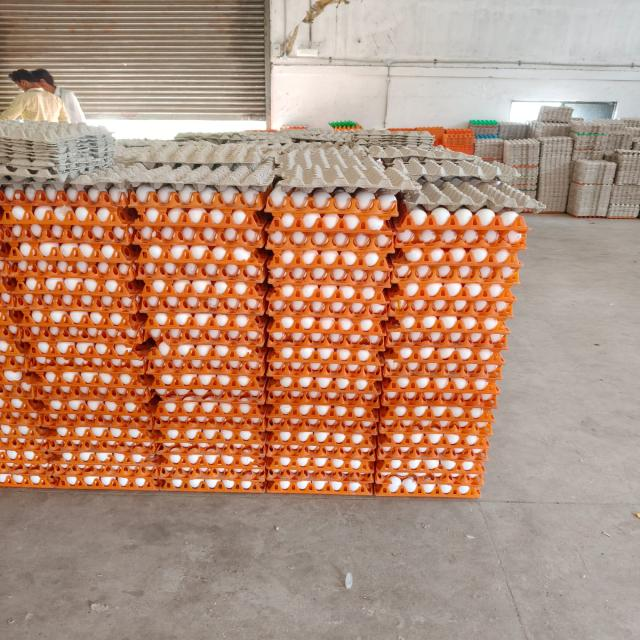egg_tray: (376, 208, 526, 497), (267, 189, 396, 493), (131, 187, 266, 453), (3, 188, 139, 366), (376, 315, 506, 496), (147, 313, 266, 492), (148, 315, 266, 491), (3, 310, 147, 451), (150, 324, 266, 492), (2, 186, 140, 313), (385, 245, 519, 375), (132, 186, 266, 314), (148, 313, 266, 456), (267, 188, 396, 318), (25, 312, 151, 442), (268, 348, 381, 492), (376, 368, 497, 496), (267, 359, 379, 493), (389, 208, 527, 316), (55, 420, 264, 491), (268, 316, 383, 444), (381, 316, 503, 435), (30, 314, 153, 424), (130, 185, 266, 283), (267, 376, 379, 492), (268, 378, 377, 494), (379, 346, 503, 444), (31, 340, 154, 437), (0, 186, 132, 276), (386, 282, 514, 372), (154, 393, 265, 491), (147, 314, 266, 404), (148, 343, 266, 431), (138, 245, 267, 324), (391, 208, 525, 284), (379, 374, 497, 460), (267, 346, 381, 434), (3, 242, 141, 314), (45, 402, 157, 490), (268, 346, 381, 433), (388, 246, 520, 320), (43, 400, 153, 488), (0, 308, 52, 486), (266, 187, 397, 254), (0, 366, 151, 424), (267, 188, 397, 252), (129, 184, 269, 243), (156, 420, 266, 492), (0, 185, 134, 244), (267, 316, 384, 381), (377, 406, 492, 472), (144, 311, 266, 372), (268, 256, 388, 318), (375, 432, 489, 497), (147, 342, 266, 404), (145, 313, 267, 372), (49, 427, 157, 490), (0, 358, 53, 486), (385, 315, 508, 370), (118, 140, 271, 184), (148, 320, 266, 376), (267, 376, 379, 434), (0, 305, 43, 449), (0, 122, 115, 175), (0, 242, 137, 286), (266, 186, 397, 232), (268, 268, 386, 319), (29, 324, 149, 373), (380, 382, 497, 432), (129, 184, 268, 226), (395, 206, 528, 249), (377, 420, 490, 470), (158, 440, 265, 492), (134, 207, 266, 248), (267, 444, 374, 494), (0, 180, 127, 222), (2, 276, 141, 314), (158, 443, 265, 492), (2, 204, 133, 244), (137, 245, 267, 284), (268, 444, 373, 492), (267, 212, 393, 251), (391, 247, 521, 284), (156, 435, 265, 479), (14, 309, 145, 345), (388, 282, 515, 319), (140, 279, 267, 316), (139, 244, 266, 281), (268, 250, 391, 288), (376, 434, 487, 476), (267, 281, 387, 319), (43, 387, 153, 428), (154, 394, 265, 434), (34, 368, 153, 405), (268, 282, 386, 319), (42, 413, 155, 451), (267, 284, 387, 319), (267, 430, 375, 468), (383, 346, 503, 380), (267, 454, 374, 492), (386, 315, 509, 348), (0, 341, 42, 437), (0, 340, 42, 436), (267, 345, 382, 380), (268, 456, 372, 494), (268, 316, 386, 349), (154, 421, 266, 455), (381, 376, 499, 407), (268, 376, 380, 407), (0, 422, 53, 487), (53, 460, 157, 490), (161, 461, 263, 491), (374, 470, 482, 498), (395, 376, 495, 406), (374, 471, 481, 498), (0, 433, 53, 487), (54, 463, 157, 490), (0, 339, 37, 411), (159, 468, 265, 492), (0, 159, 105, 183), (164, 465, 263, 490), (0, 397, 50, 439), (0, 302, 28, 372), (398, 209, 474, 234), (40, 387, 121, 410), (0, 310, 29, 371), (31, 452, 83, 486), (0, 308, 28, 370), (267, 479, 372, 495), (0, 462, 55, 488), (269, 428, 361, 442), (0, 305, 23, 354), (607, 149, 639, 184), (494, 212, 526, 242), (283, 347, 326, 368), (512, 164, 538, 197), (0, 276, 21, 316), (420, 350, 460, 370), (607, 204, 639, 218), (2, 324, 21, 342), (246, 376, 263, 394), (300, 250, 325, 261), (95, 474, 117, 486), (437, 208, 457, 221), (372, 254, 388, 269), (117, 478, 140, 488), (476, 212, 492, 226), (396, 463, 414, 473), (270, 395, 291, 403), (437, 362, 453, 372), (129, 326, 143, 337), (227, 233, 242, 243), (87, 269, 108, 276), (111, 374, 125, 384), (32, 217, 54, 222), (101, 388, 123, 393), (342, 379, 354, 388), (411, 376, 421, 386), (104, 249, 113, 260), (312, 255, 324, 263), (41, 313, 51, 322), (66, 401, 76, 410), (0, 454, 11, 462), (443, 462, 454, 470), (202, 379, 211, 388), (325, 388, 343, 392), (21, 476, 29, 485), (3, 261, 10, 271), (140, 233, 150, 240), (181, 315, 188, 325), (455, 465, 469, 470), (130, 379, 143, 384), (99, 318, 107, 326), (420, 360, 429, 367), (26, 312, 35, 319), (59, 446, 68, 453), (173, 362, 183, 368), (377, 476, 385, 483), (99, 346, 106, 354), (331, 381, 339, 388), (136, 386, 145, 392), (344, 389, 361, 392), (159, 402, 164, 412), (516, 217, 523, 224), (131, 380, 143, 384), (267, 469, 273, 477), (153, 347, 158, 356), (38, 348, 47, 353), (121, 459, 136, 462), (242, 478, 251, 483), (379, 475, 385, 482), (101, 374, 107, 381), (479, 369, 487, 374), (238, 352, 246, 357), (130, 432, 138, 437), (5, 371, 18, 374), (235, 384, 241, 390), (302, 445, 311, 449), (469, 364, 475, 370), (381, 465, 388, 470), (492, 369, 499, 374), (87, 477, 94, 482), (490, 235, 497, 240), (78, 327, 86, 331), (193, 365, 201, 369), (301, 395, 306, 401), (0, 278, 3, 288), (212, 376, 218, 381), (336, 374, 346, 377), (47, 316, 52, 322), (486, 288, 492, 293), (342, 268, 349, 272), (386, 397, 390, 404), (450, 238, 457, 242), (70, 322, 77, 326), (103, 372, 110, 376), (182, 386, 189, 390), (32, 311, 39, 315), (170, 409, 175, 414), (452, 220, 457, 225), (30, 326, 36, 330), (66, 314, 70, 320), (328, 348, 334, 352), (82, 317, 90, 320), (493, 230, 499, 234), (467, 283, 475, 286), (442, 362, 449, 365), (165, 414, 168, 421), (160, 443, 167, 446), (367, 436, 374, 439), (3, 478, 10, 481), (361, 272, 365, 277), (6, 294, 10, 299), (462, 368, 467, 372), (373, 420, 377, 425), (130, 403, 134, 408), (7, 478, 11, 483), (123, 345, 126, 351), (193, 380, 197, 384), (431, 407, 439, 409), (402, 347, 410, 349), (463, 215, 467, 219), (4, 195, 7, 200), (102, 314, 107, 317), (241, 390, 246, 393), (269, 444, 272, 449), (326, 262, 331, 265), (361, 353, 364, 358), (87, 470, 90, 475), (442, 458, 449, 460), (258, 425, 262, 428), (471, 374, 475, 377), (479, 210, 483, 213), (79, 218, 82, 222), (81, 212, 84, 216), (166, 472, 172, 474), (91, 387, 97, 389), (54, 387, 60, 389), (238, 376, 242, 379), (287, 438, 291, 441), (116, 460, 122, 462), (52, 312, 58, 314), (506, 291, 510, 294), (413, 455, 419, 457), (187, 406, 191, 409), (172, 382, 177, 384), (471, 365, 476, 367), (189, 453, 194, 455), (83, 264, 85, 269), (272, 450, 277, 452), (377, 357, 379, 362), (143, 482, 148, 484), (94, 452, 99, 454), (370, 252, 373, 255), (420, 476, 423, 479), (402, 407, 405, 410), (185, 380, 188, 383), (190, 329, 199, 330), (383, 265, 386, 268), (129, 327, 132, 330), (495, 388, 497, 392), (130, 388, 132, 392), (148, 320, 150, 324), (285, 376, 289, 378), (47, 187, 51, 189), (117, 432, 121, 434), (117, 460, 121, 462), (62, 451, 70, 452), (5, 188, 6, 195), (494, 285, 501, 286), (331, 269, 334, 271), (474, 452, 477, 454), (491, 218, 494, 220), (387, 361, 389, 364), (463, 354, 466, 356), (447, 350, 453, 351), (17, 443, 19, 446), (60, 405, 62, 408), (589, 136, 592, 138), (422, 468, 425, 470), (296, 398, 299, 400), (240, 425, 245, 426), (465, 350, 470, 351), (217, 385, 222, 386), (71, 312, 76, 313), (314, 269, 316, 271), (413, 463, 415, 465), (202, 371, 206, 372), (158, 236, 162, 237), (286, 444, 288, 446), (478, 480, 480, 482), (433, 466, 435, 468), (313, 372, 317, 373), (485, 388, 487, 390), (215, 223, 217, 225), (319, 267, 322, 268), (379, 455, 380, 458), (185, 371, 188, 372), (491, 365, 494, 366), (498, 354, 499, 357), (110, 387, 113, 388), (287, 225, 290, 226), (81, 269, 82, 272), (139, 487, 142, 488), (101, 460, 104, 461), (284, 256, 285, 259), (487, 214, 488, 217), (272, 280, 273, 282), (454, 458, 456, 459), (0, 280, 1, 282), (432, 478, 434, 479), (56, 176, 58, 177), (427, 229, 429, 230), (194, 414, 195, 416), (207, 404, 208, 406), (155, 318, 157, 319), (223, 236, 225, 237), (138, 323, 139, 325), (84, 460, 86, 461), (304, 256, 306, 257), (467, 211, 468, 213), (0, 367, 1, 368), (418, 480, 419, 481), (185, 378, 186, 379), (30, 218, 31, 219), (43, 314, 44, 315), (415, 358, 416, 359), (151, 236, 152, 237), (318, 265, 319, 266), (451, 467, 452, 468), (76, 318, 77, 319), (363, 350, 364, 351), (85, 449, 86, 450), (318, 252, 319, 253), (114, 456, 115, 457), (432, 289, 433, 290), (502, 229, 503, 230), (511, 216, 512, 217), (511, 212, 512, 213), (478, 285, 479, 286), (383, 280, 383, 282), (303, 276, 303, 276), (354, 254, 354, 255), (453, 452, 455, 452), (377, 220, 377, 222), (412, 381, 413, 381), (469, 239, 472, 239), (476, 225, 476, 225), (487, 210, 487, 210), (178, 385, 179, 385), (30, 418, 30, 418), (198, 414, 199, 414), (465, 361, 466, 361), (452, 354, 452, 356), (364, 416, 365, 416), (332, 414, 333, 414), (16, 328, 18, 328), (154, 350, 155, 350), (121, 350, 121, 350), (132, 449, 132, 450), (207, 472, 213, 472), (0, 443, 1, 443), (254, 176, 254, 177), (202, 292, 203, 292), (342, 354, 345, 354), (410, 379, 410, 379), (401, 379, 401, 381), (45, 479, 45, 479), (59, 448, 60, 448), (14, 358, 14, 359), (494, 218, 494, 219), (490, 212, 490, 212), (478, 212, 479, 212), (398, 452, 399, 452), (481, 470, 481, 470)
